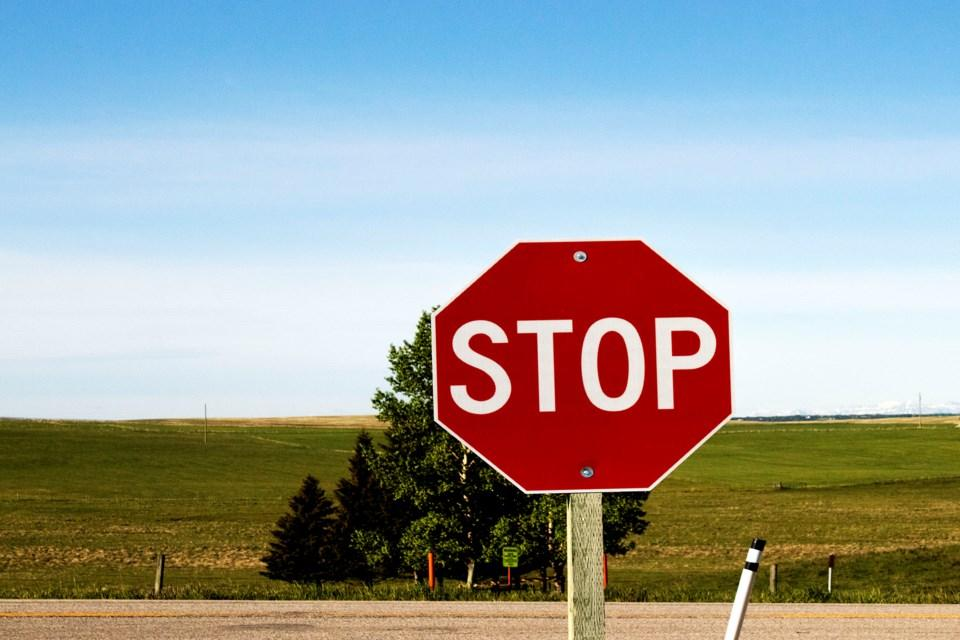traffic sign: (381, 219, 767, 633)
